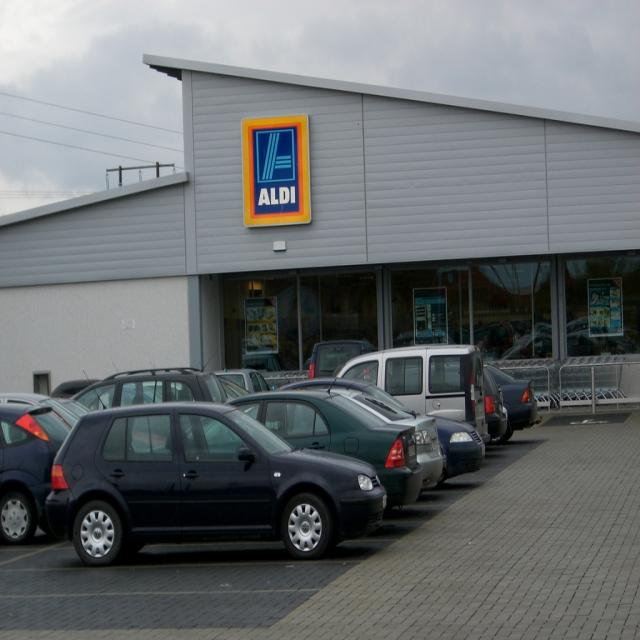aldi: (242, 116, 312, 228)
